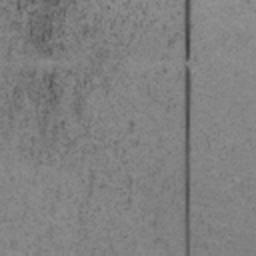Scratches: (182, 68, 192, 256), (184, 0, 189, 61)
